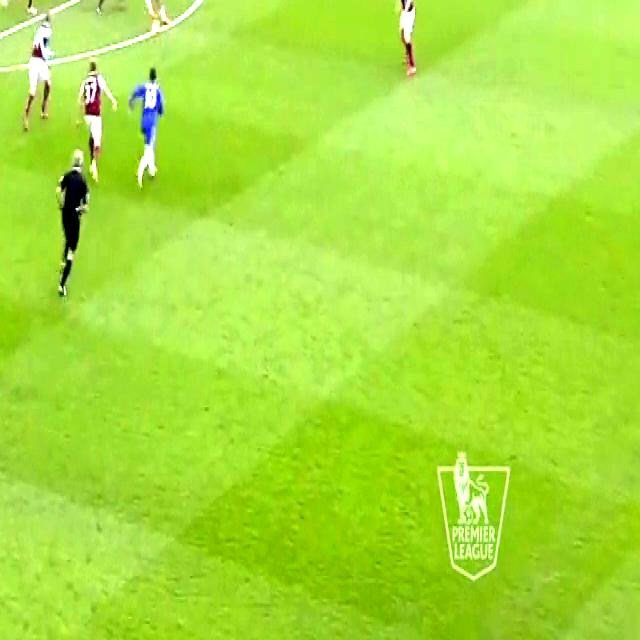ball: (149, 15, 162, 40)
referee: (51, 150, 86, 304)
soccer-player: (128, 56, 172, 190), (20, 0, 58, 132), (76, 58, 115, 178), (388, 0, 421, 87), (131, 0, 178, 41), (0, 0, 37, 23), (93, 0, 126, 25)
